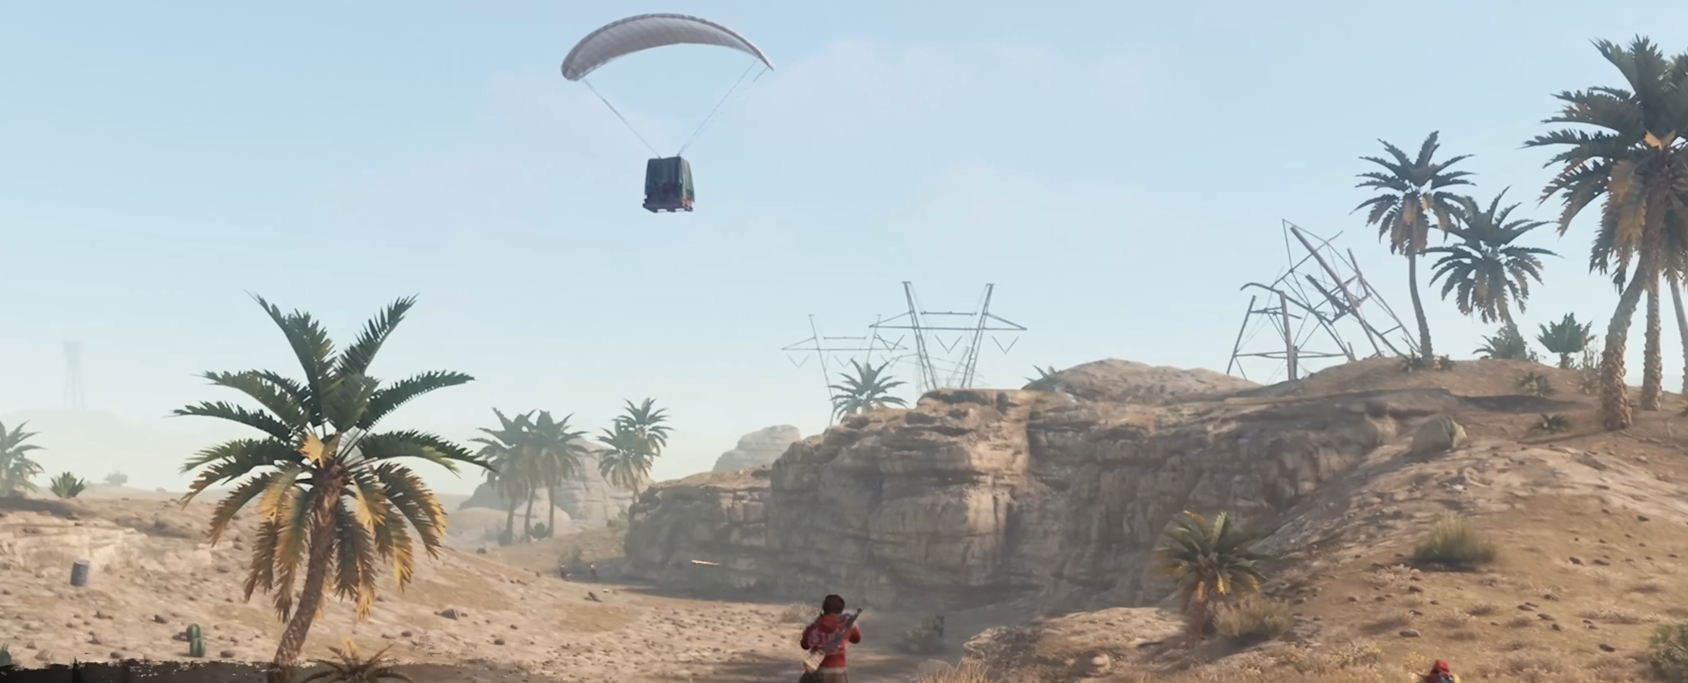tree: (219, 306, 488, 683), (1563, 58, 1642, 454), (1371, 148, 1458, 360), (1612, 155, 1666, 432), (1463, 205, 1539, 365), (1648, 172, 1688, 393), (1180, 529, 1240, 642), (495, 406, 533, 550), (609, 407, 649, 527), (533, 443, 560, 550)
